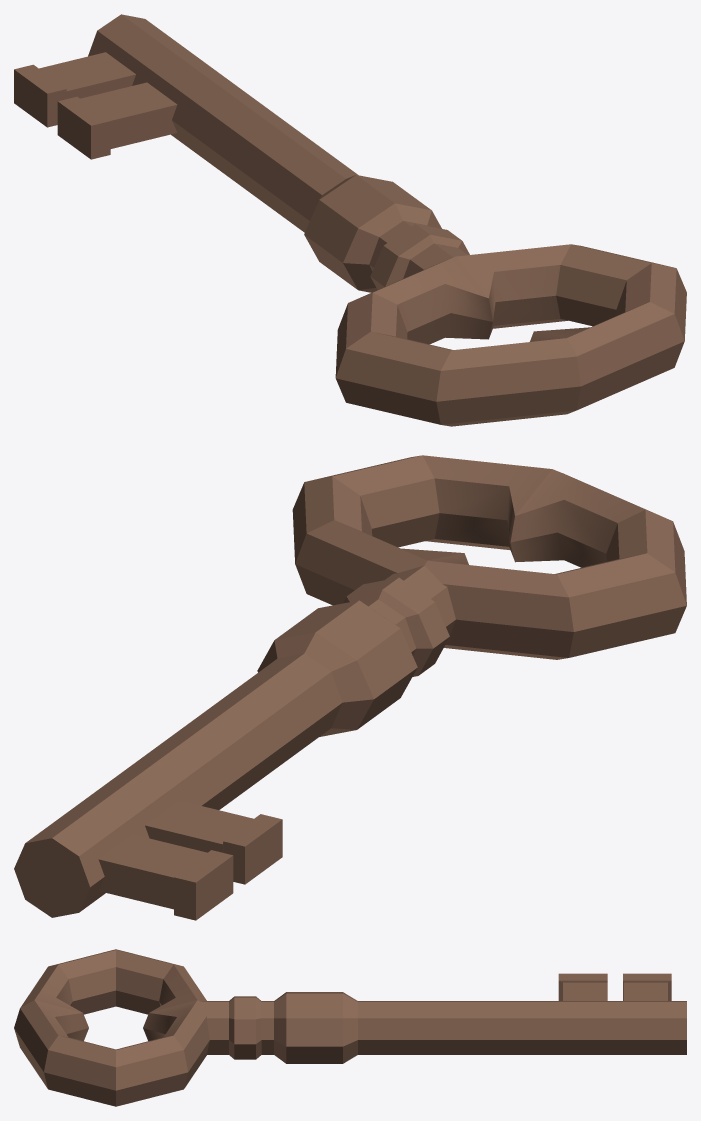
File: O_Interactive_Key.fbx
The picture shows the model from 3 angles, top to bottom: view 1: azimuth 30°, elevation 25°; view 2: azimuth 150°, elevation 25°; view 3: azimuth 270°, elevation 25°; orthographic projection. The views are drawn at different scales.
Parts seen in each view (by area): view 1: pCube3; view 2: pCube3; view 3: pCube3.
Boxes of the visible parts, bbox=[...] form: pCube3: bbox=[14, 14, 686, 426]; pCube3: bbox=[14, 455, 686, 920]; pCube3: bbox=[14, 949, 686, 1106].
Size of the model in its own units: 0.1256 by 0.0321 by 0.2848.
